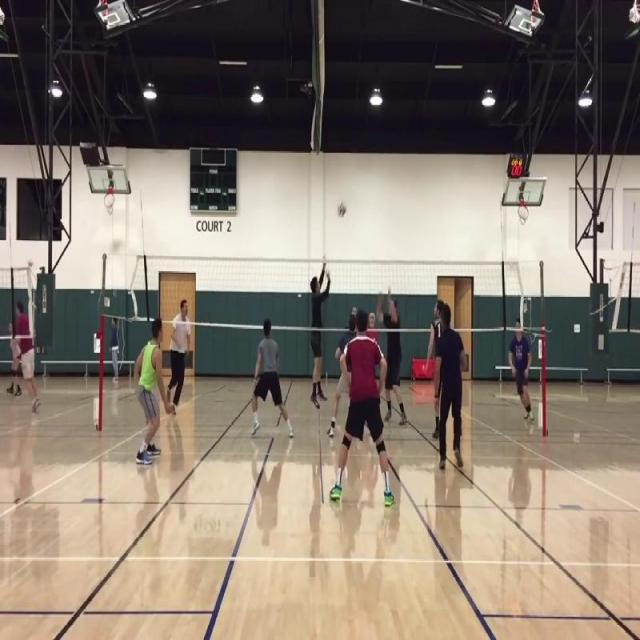volleyball: (338, 202, 347, 218)
